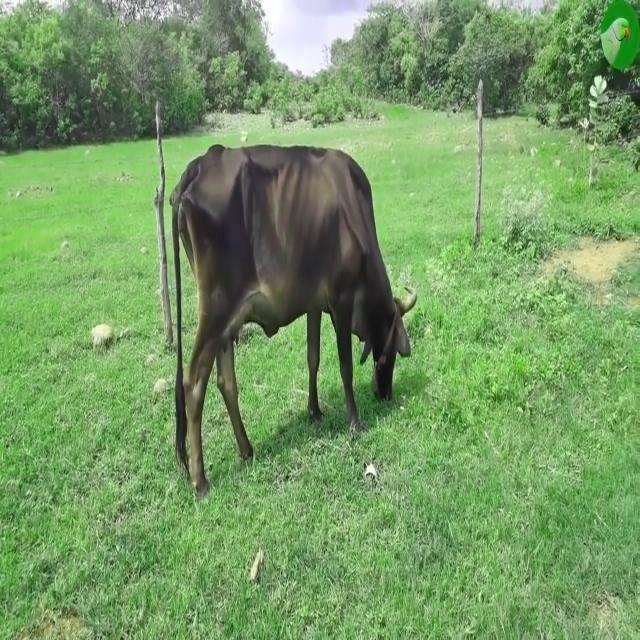cow: (172, 145, 415, 495)
